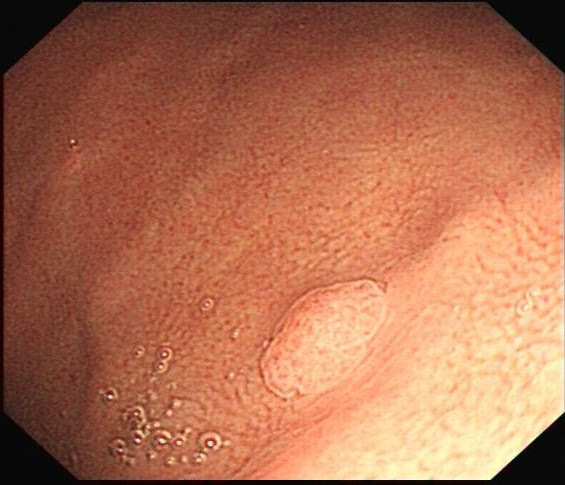Polyp: (207, 257, 406, 423)
